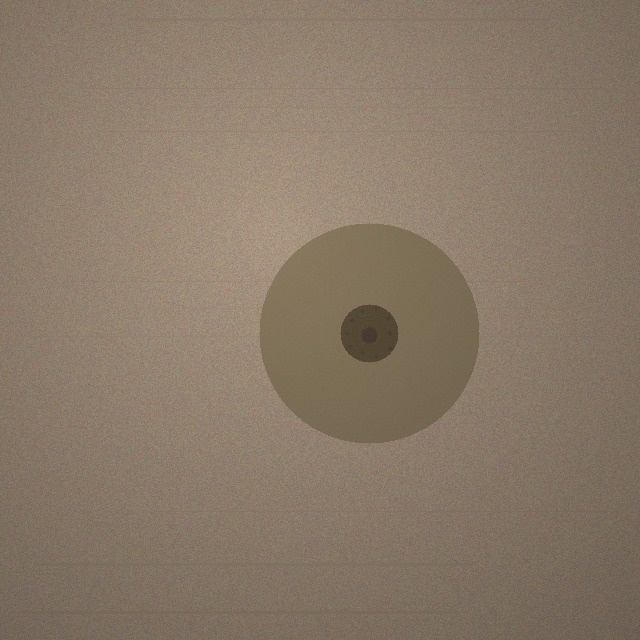cold_weld: (259, 223, 479, 443)
